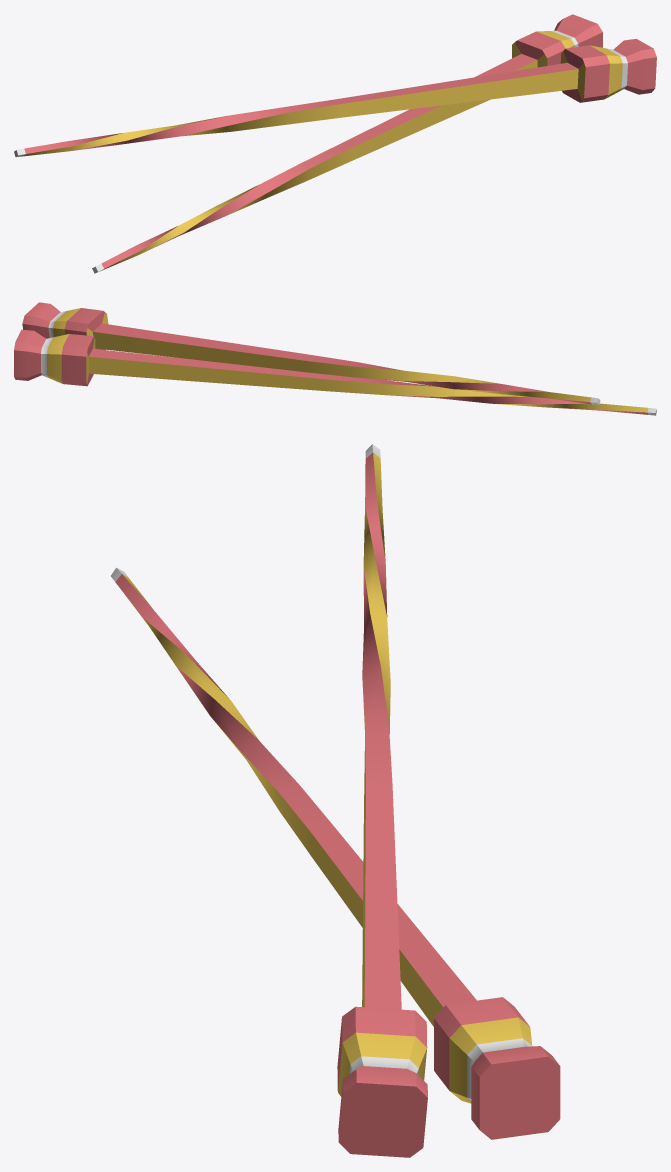
Rendered from chopsick4.fbx.
3 views of the same model, one above another, from view 1: azimuth 30°, elevation 25°; view 2: azimuth 150°, elevation 25°; view 3: azimuth 270°, elevation 25° (orthographic). The views are drawn at different scales.
Visible parts, largest first — view 1: pCube2, pCube1; view 2: pCube1, pCube2; view 3: pCube2, pCube1.
Part boxes in pixels (x1=…): pCube2: x1=14, y1=38, x2=656, y2=157; pCube1: x1=92, y1=14, x2=602, y2=273; pCube1: x1=14, y1=329, x2=656, y2=415; pCube2: x1=22, y1=302, x2=600, y2=405; pCube2: x1=337, y1=444, x2=427, y2=1157; pCube1: x1=111, y1=567, x2=560, y2=1139.
Bounding box in the file's own units: 15.08 × 2.14 × 5.21.
